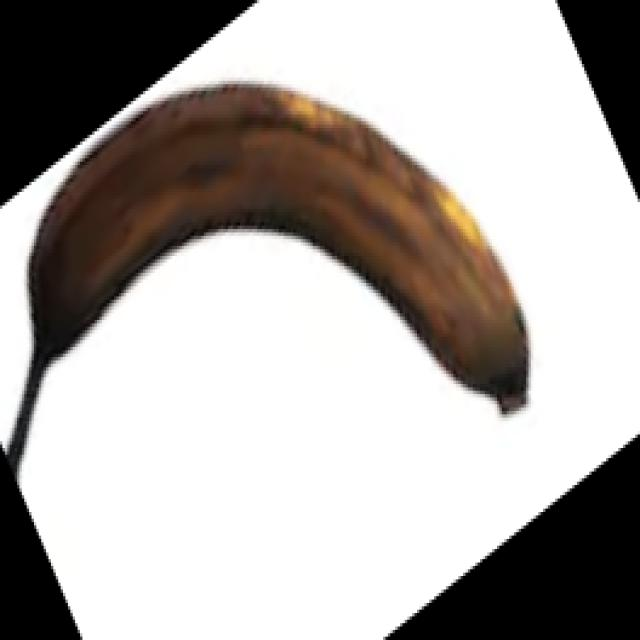Rotten: (4, 53, 544, 530)
